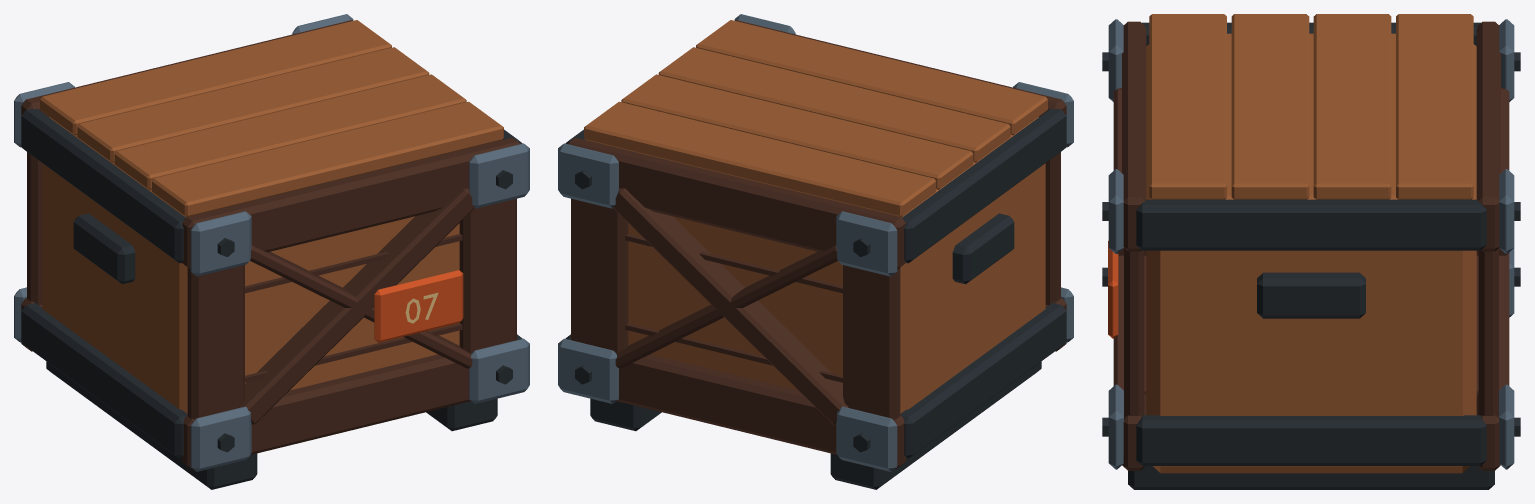
The model's file is haul-crate.glb.
3 views of the same model, side by side, from view 1: azimuth 30°, elevation 25°; view 2: azimuth 150°, elevation 25°; view 3: azimuth 270°, elevation 25° (orthographic). The views are drawn at different scales.
Visible parts, largest first — view 1: haul-crate; view 2: haul-crate; view 3: haul-crate.
Part boxes in pixels (box(x1,y1,x2,y2)): haul-crate: box(14, 14, 529, 489); haul-crate: box(558, 14, 1073, 489); haul-crate: box(1102, 14, 1520, 489).
Bounding box in the file's own units: 1.12 × 0.8635 × 1.04.
